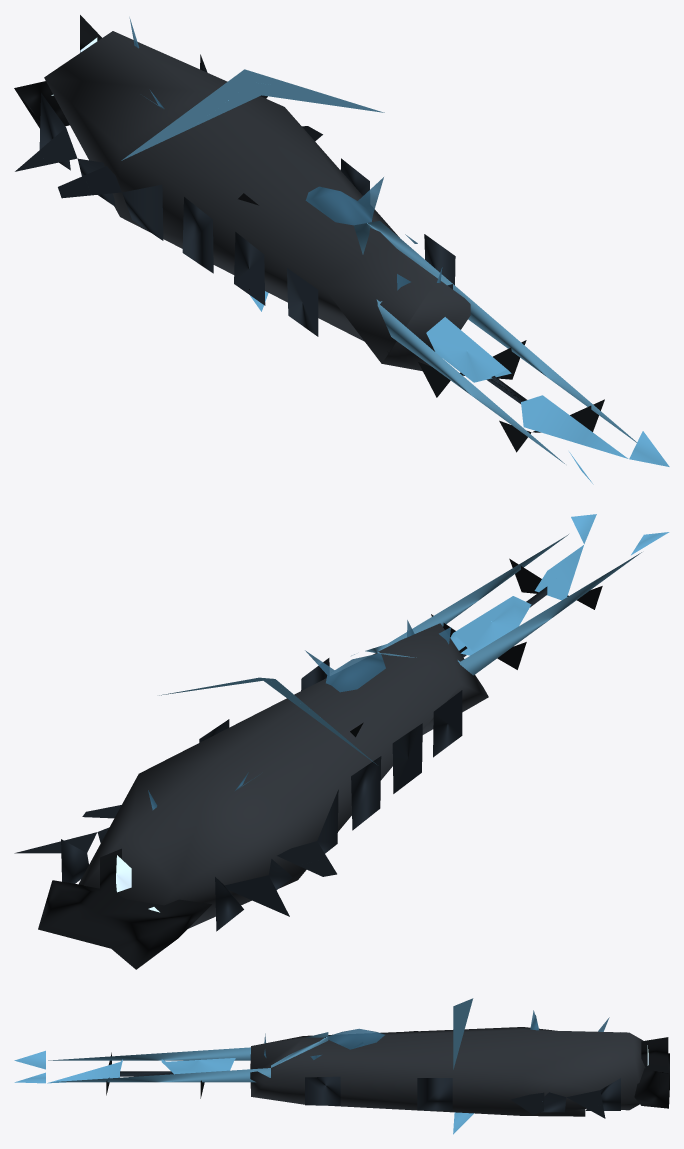
File: kamerton-rezonanci-coalition-23-lod2.glb
3 renders of one model, top to bottom at view 1: azimuth 30°, elevation 25°; view 2: azimuth 150°, elevation 25°; view 3: azimuth 270°, elevation 25°, orthographic. The views are drawn at different scales.
Size of the model in its own units: 9.02 by 7.25 by 31.57.
